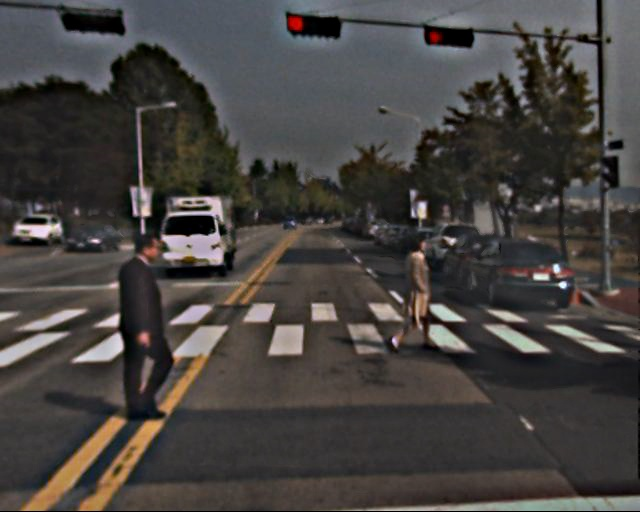person: (105, 231, 180, 415), (390, 236, 439, 355)
